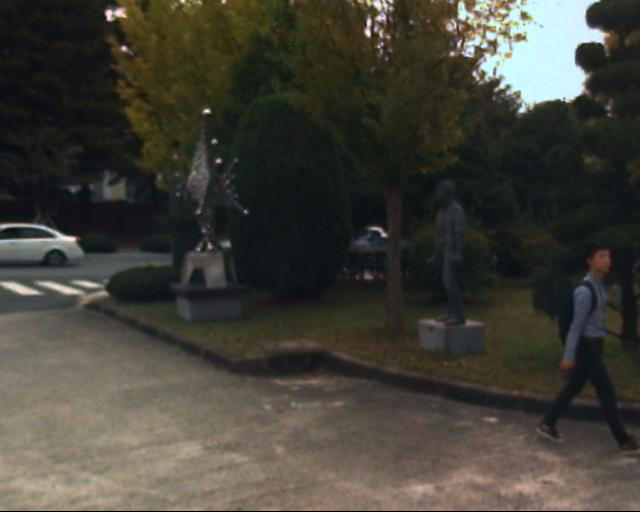person: (540, 232, 609, 455), (415, 168, 473, 340)
